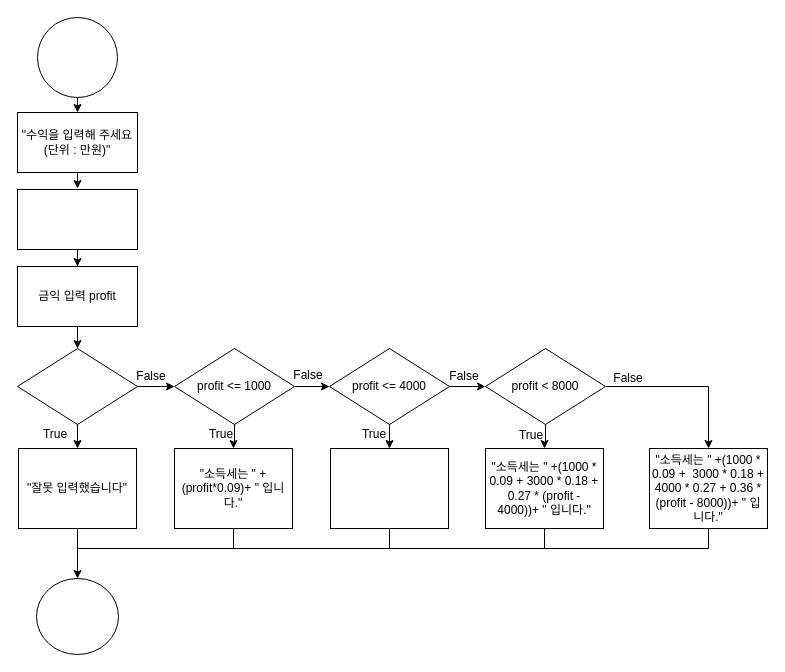
The diagram is 785 pixels wide and 672 high, and some of its shapes have lost their labels. The box of each missing label's shape, as (x1, y1, x2, y2) in pixels:
"금익 : ": (16, 188, 138, 250)
"소득세는 " +(1000 * 0.09 + 0.18 * (profit - 1000))+ " 입니다.": (330, 448, 448, 528)
end: (36, 578, 118, 654)
profit < 0: (16, 348, 138, 424)
Start: (36, 16, 118, 98)
